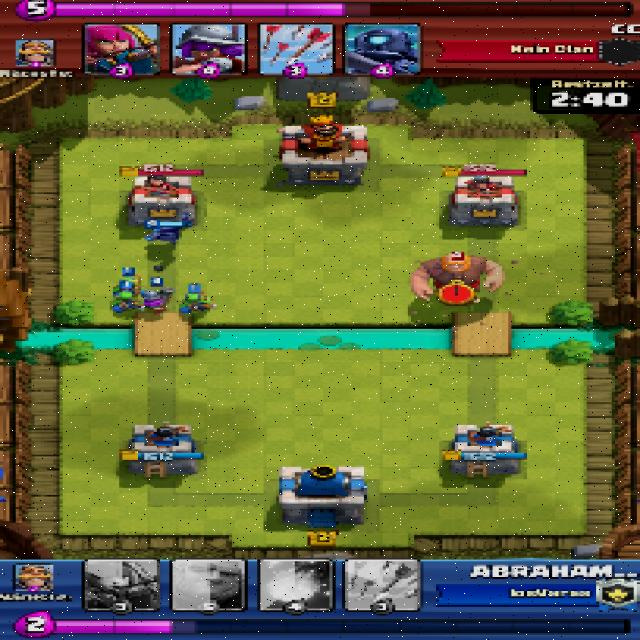Enemy-Giant: (410, 254, 503, 304)
Player-MiniPEKKA: (146, 218, 193, 245)
Player-Musketeer: (143, 288, 168, 315)
Player-SpearGoblin: (177, 292, 216, 311), (111, 292, 139, 312), (113, 276, 137, 296)
